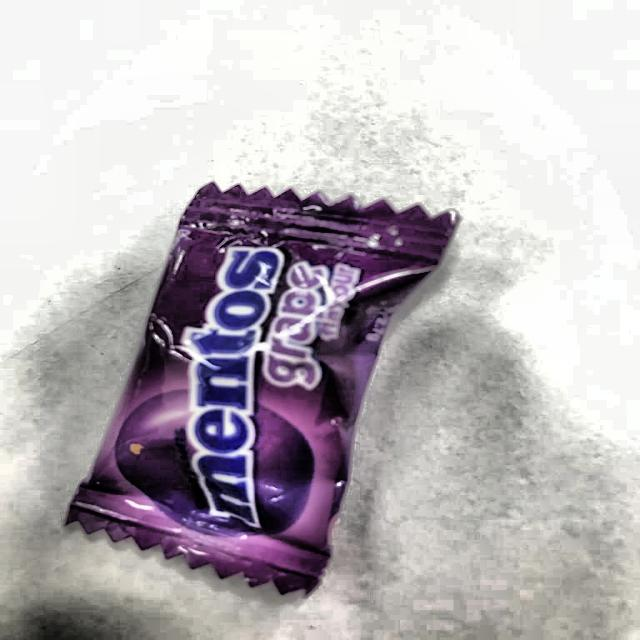Plastic: (62, 175, 458, 592)
